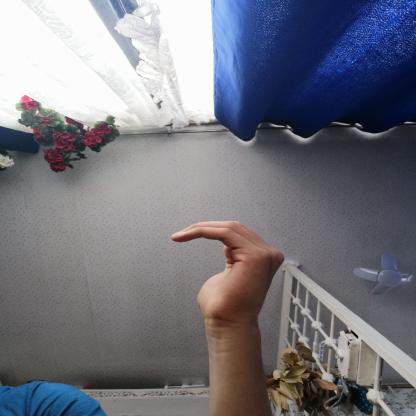HAA: (157, 208, 294, 329)
